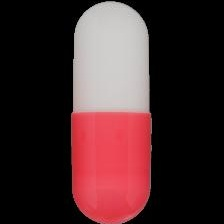51079-924: (0, 0, 224, 224)
